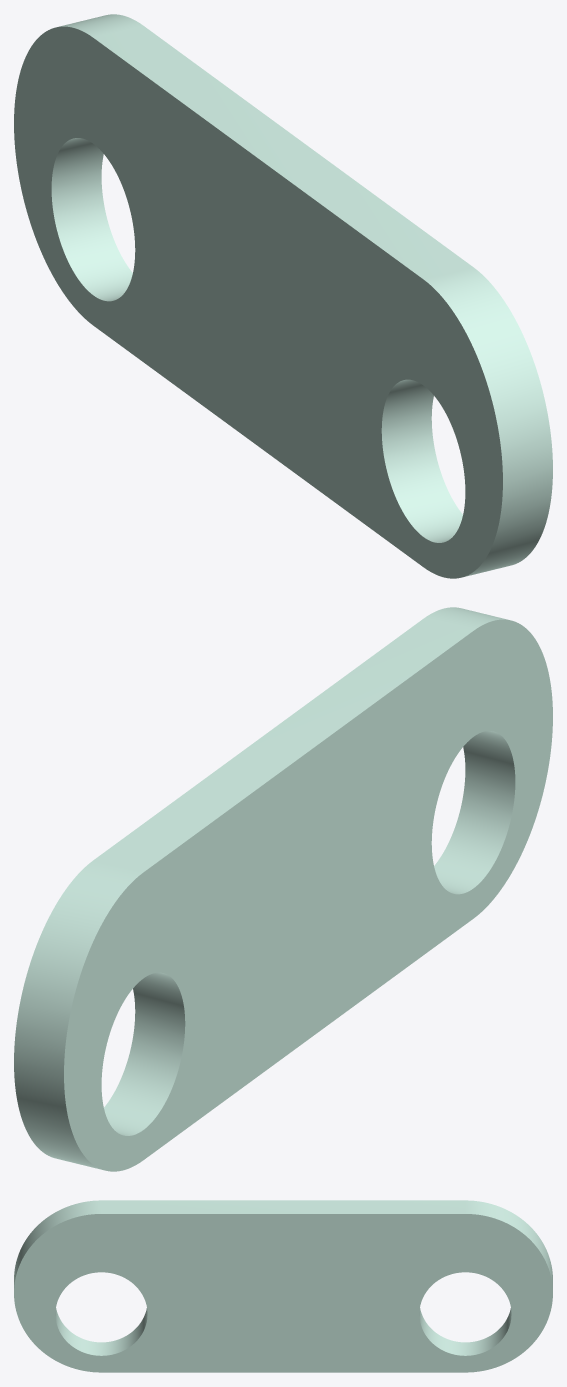
The picture shows the model from 3 angles, top to bottom: view 1: azimuth 30°, elevation 25°; view 2: azimuth 150°, elevation 25°; view 3: azimuth 270°, elevation 25°; orthographic projection. The views are drawn at different scales.
Parts seen in each view (by area): view 1: Renderer Node; view 2: Renderer Node; view 3: Renderer Node.
Boxes of the visible parts, bbox=[...] form: Renderer Node: bbox=[14, 14, 552, 578]; Renderer Node: bbox=[14, 607, 552, 1171]; Renderer Node: bbox=[14, 1200, 552, 1372].
Size of the model in its own units: 0.0938 by 0.5156 by 1.59.
